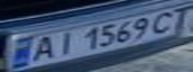1: (78, 24, 103, 52)
5: (96, 20, 121, 48)
6: (115, 19, 139, 44)
9: (130, 15, 157, 40)
A: (24, 33, 60, 64)
C: (145, 9, 181, 35)
I: (51, 28, 81, 56)
T: (163, 6, 193, 33)
